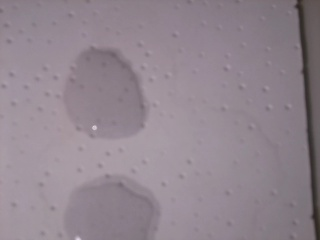Water_detected: (71, 50, 136, 128), (77, 179, 152, 240)
